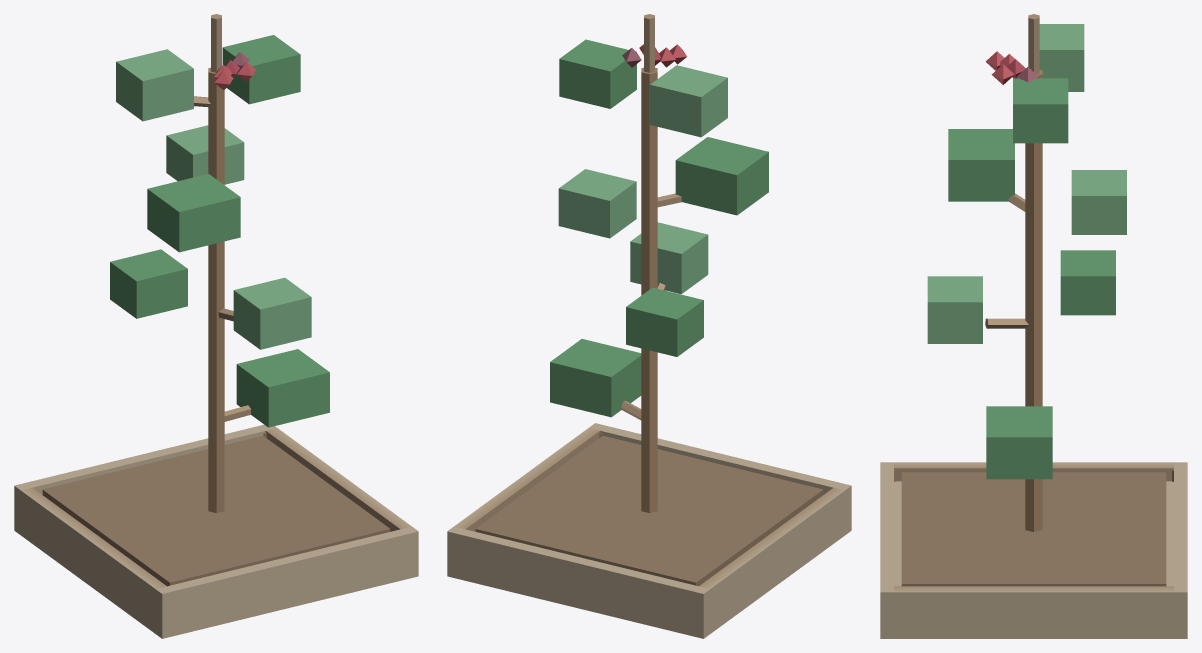
File: cafe_cosecha_far.glb
The picture shows the model from 3 angles, left to right: view 1: azimuth 30°, elevation 25°; view 2: azimuth 150°, elevation 25°; view 3: azimuth 270°, elevation 25°; orthographic projection. The views are drawn at different scales.
Visible parts, largest first — view 1: model; view 2: model; view 3: model.
Boxes of the visible parts, x1,y1,x2,y2 form: model: [14, 14, 418, 638]; model: [447, 14, 851, 638]; model: [880, 14, 1187, 638].
Bounding box in the file's own units: 1 × 2 × 1.
